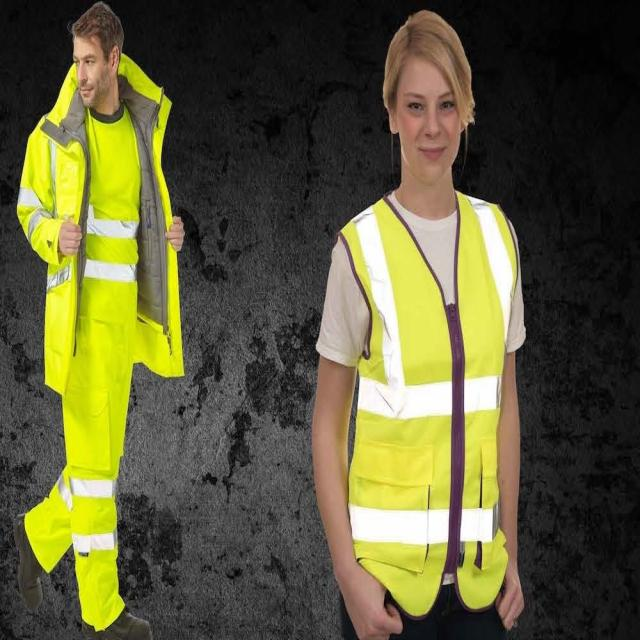vest: (332, 177, 512, 608), (62, 106, 144, 322)
